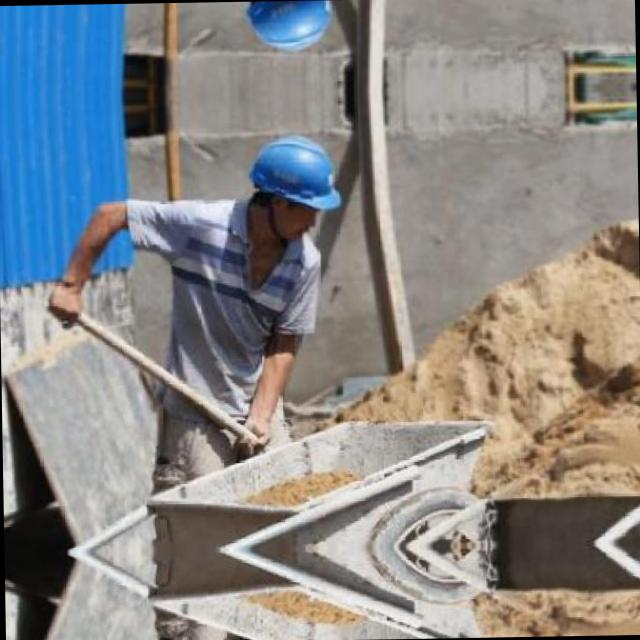helmet: (238, 120, 348, 250), (235, 0, 346, 63)
